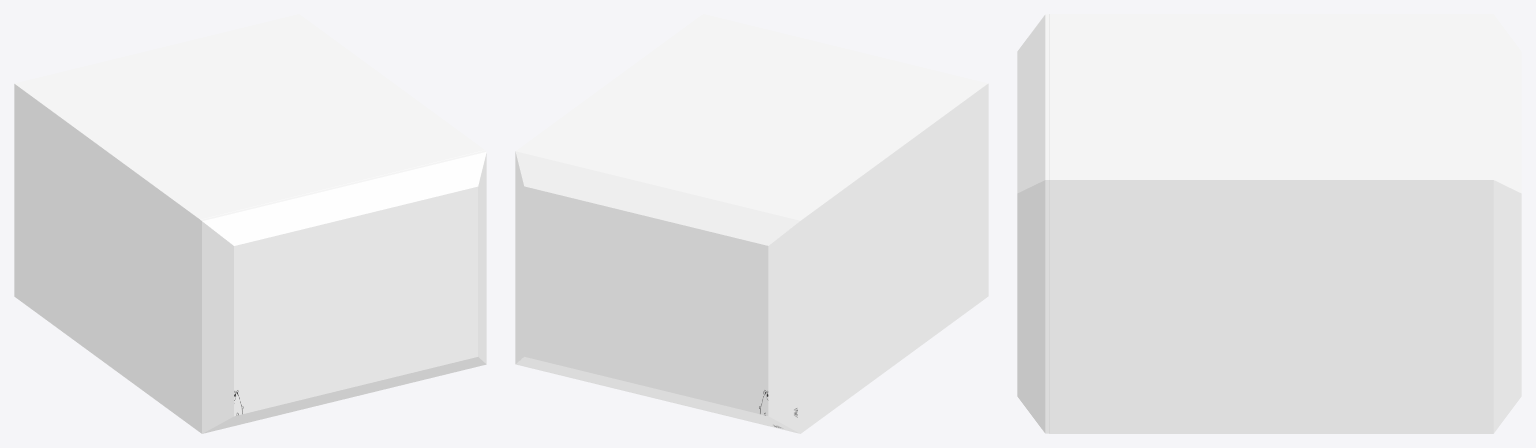
3 renders of one model, left to right at view 1: azimuth 30°, elevation 25°; view 2: azimuth 150°, elevation 25°; view 3: azimuth 270°, elevation 25°, orthographic. The views are drawn at different scales.
Bounding box in the file's own units: 14.01 × 10.01 × 18.
Materials: 2 (1 with a texture image).
